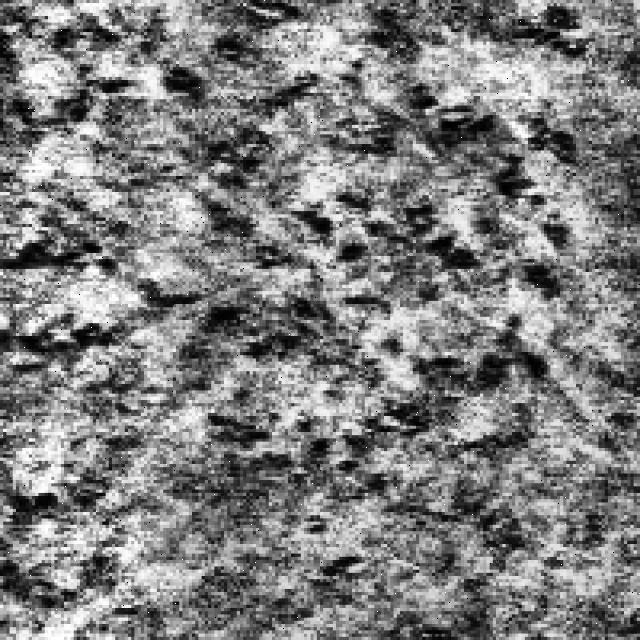Crazing: (304, 80, 586, 470), (3, 147, 215, 387)
